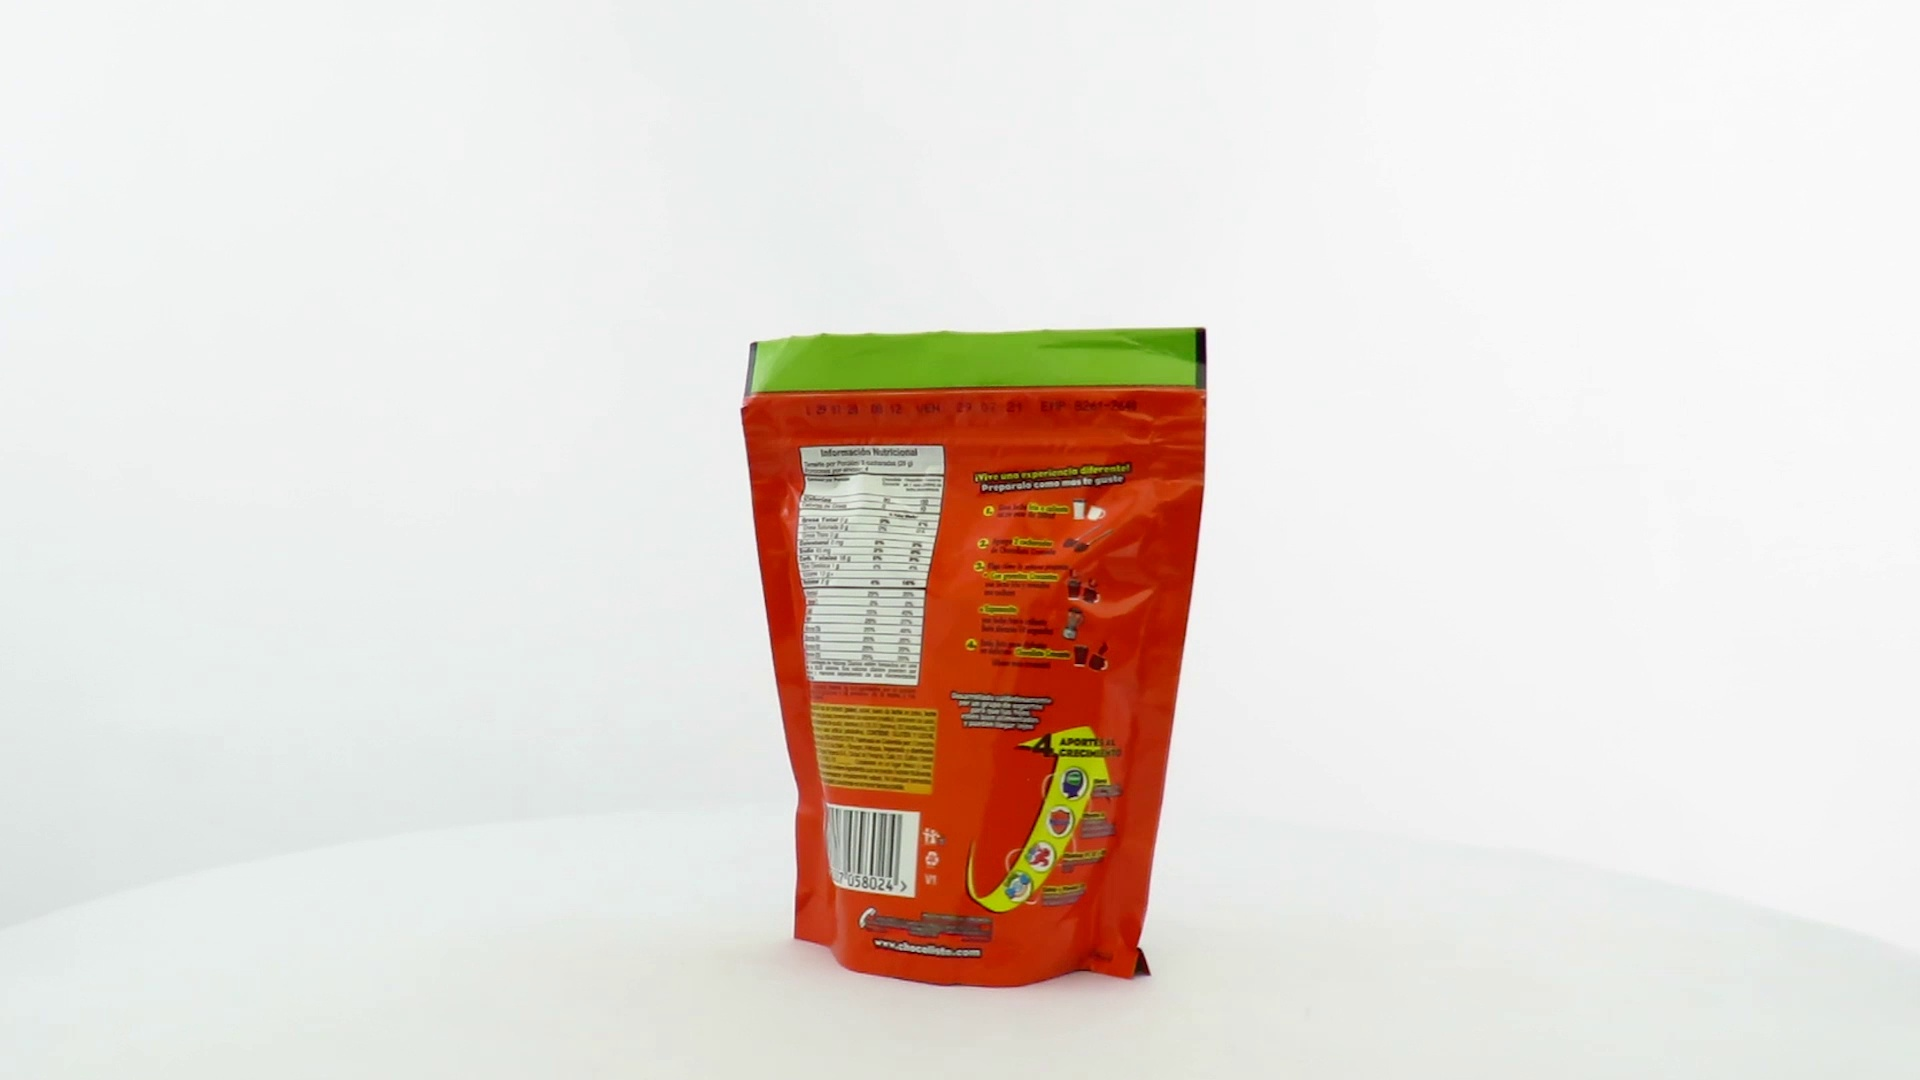COL0170102DYP10000: (735, 322, 1213, 996)
